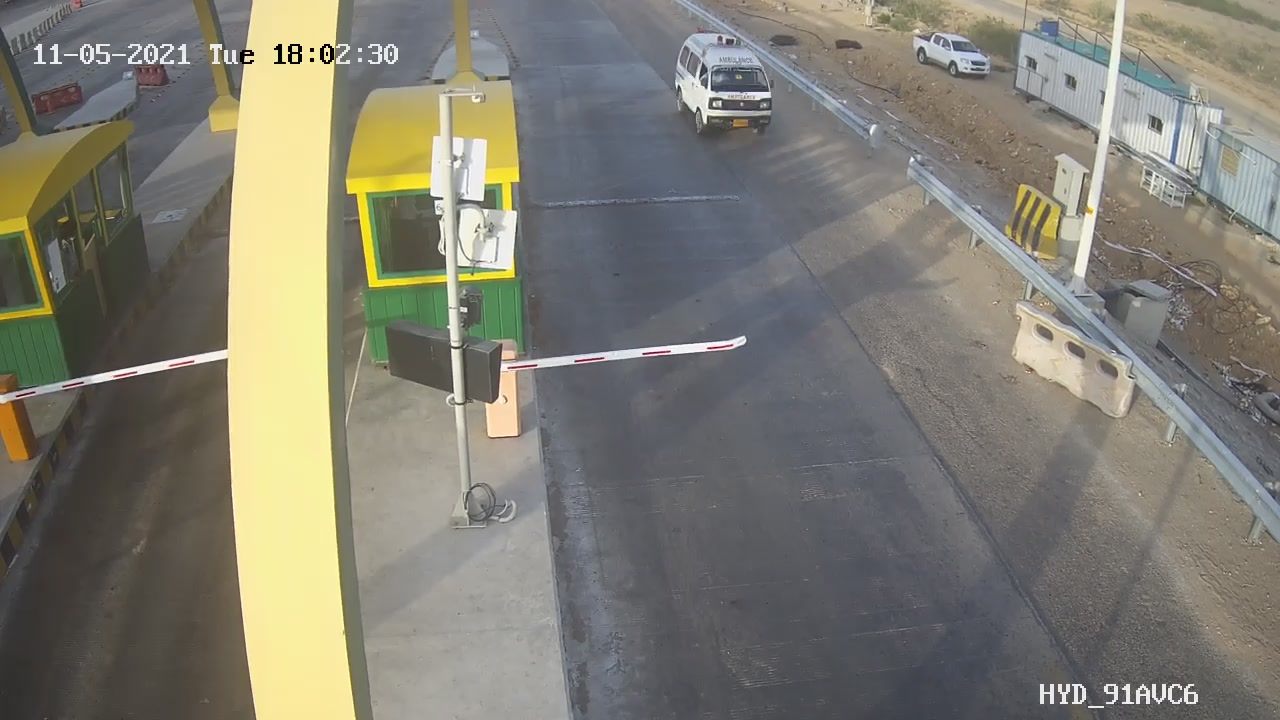F1: (660, 22, 792, 144)
